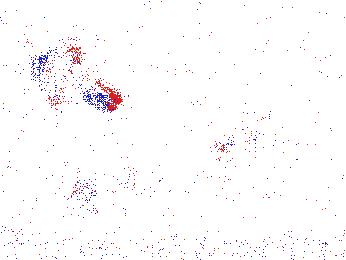flame jellyfish: (26, 47, 122, 113), (211, 111, 291, 169), (67, 158, 137, 204)
